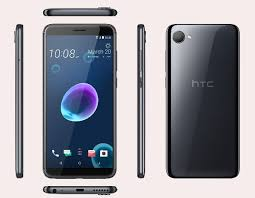htc: (38, 21, 118, 180), (164, 21, 244, 180)
